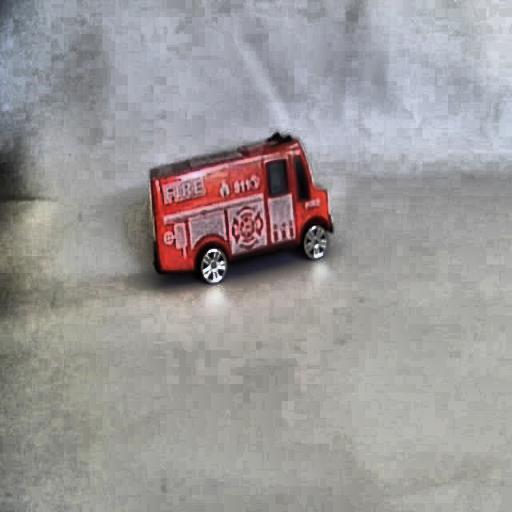fire_truck: (142, 127, 338, 294)
